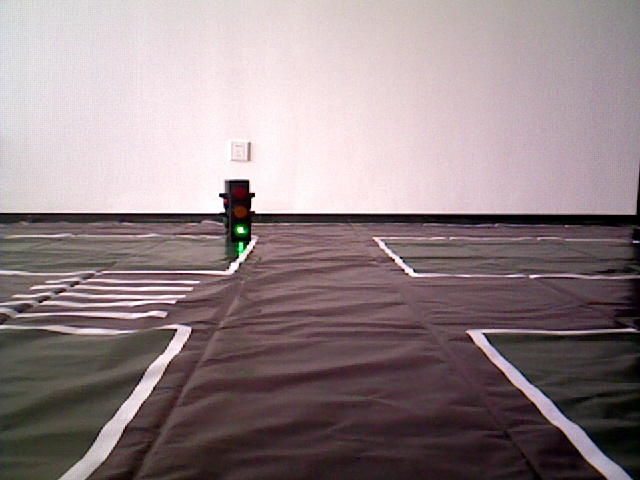green: (226, 180, 253, 242)
